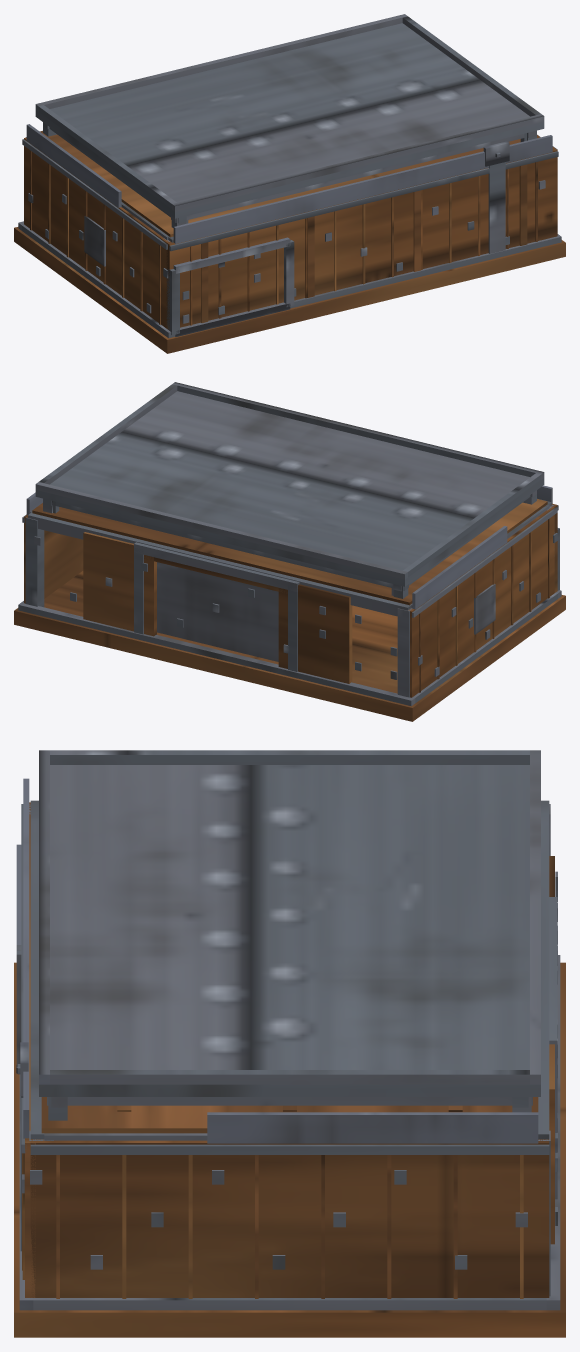
3 views of the same model, one above another, from view 1: azimuth 30°, elevation 25°; view 2: azimuth 150°, elevation 25°; view 3: azimuth 270°, elevation 25° (orthographic). The views are drawn at different scales.
Parts seen in each view (by area): view 1: SM_HDBF_BoxFarm_Advanced_LOD1; view 2: SM_HDBF_BoxFarm_Advanced_LOD1; view 3: SM_HDBF_BoxFarm_Advanced_LOD1.
Boxes of the visible parts, x1,y1,x2,y2 form: SM_HDBF_BoxFarm_Advanced_LOD1: (14, 14, 565, 353); SM_HDBF_BoxFarm_Advanced_LOD1: (14, 382, 565, 721); SM_HDBF_BoxFarm_Advanced_LOD1: (14, 750, 565, 1337).
Bounding box in the file's own units: 3 × 1 × 2.
Materials: 4 (4 with a texture image).
